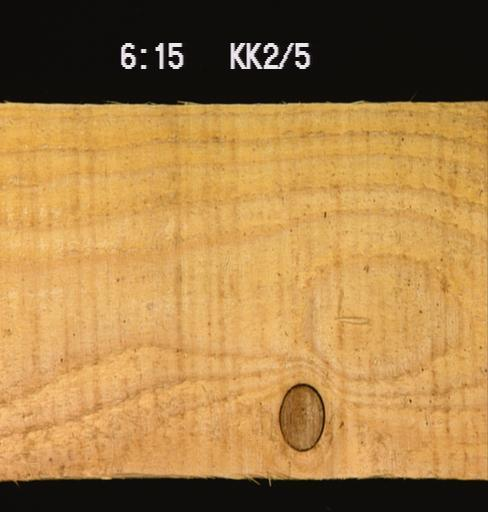dry_knot: (275, 381, 326, 451)
wave: (99, 468, 280, 481)
